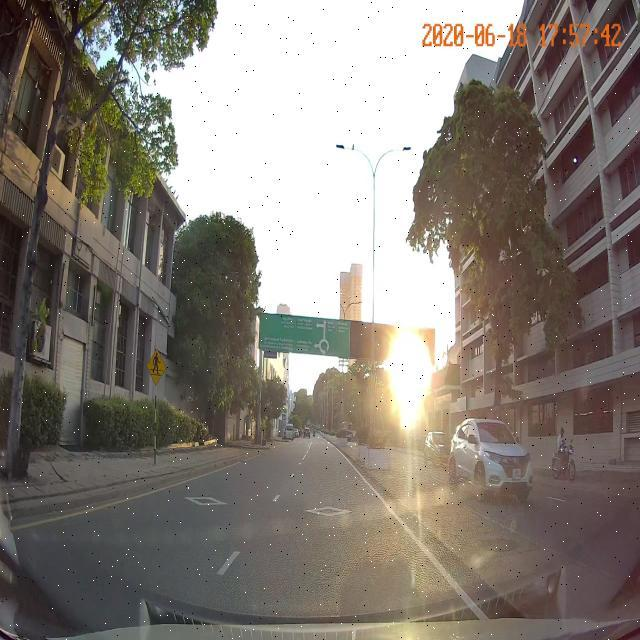diamond: (251, 495, 412, 523)
